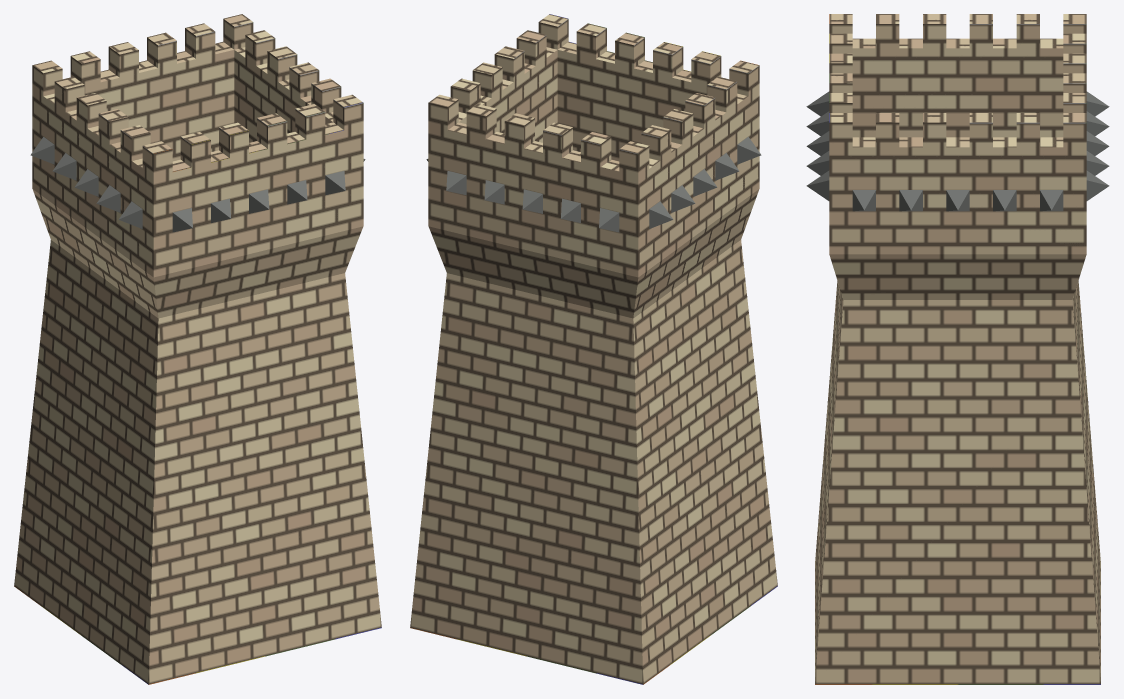
File: 8e5c857b-f4e5-4ab7-bfce-22e87dd98d54.glb
The picture shows the model from 3 angles, left to right: view 1: azimuth 30°, elevation 25°; view 2: azimuth 150°, elevation 25°; view 3: azimuth 270°, elevation 25°; orthographic projection. The views are drawn at different scales.
Visible parts, largest first — view 1: CastleTower, TowerSpikes; view 2: CastleTower, TowerSpikes; view 3: CastleTower, TowerSpikes.
Boxes of the visible parts, left/top/right/bottom form: CastleTower: left=14, top=14, right=381, bottom=684; TowerSpikes: left=30, top=137, right=365, bottom=232; CastleTower: left=410, top=14, right=777, bottom=684; TowerSpikes: left=426, top=137, right=761, bottom=232; CastleTower: left=815, top=14, right=1100, bottom=684; TowerSpikes: left=806, top=91, right=1109, bottom=211.
Size of what is drawn, in the model's own units: 2.65 by 5.36 by 2.65.
Materials: 2 (2 with a texture image).
